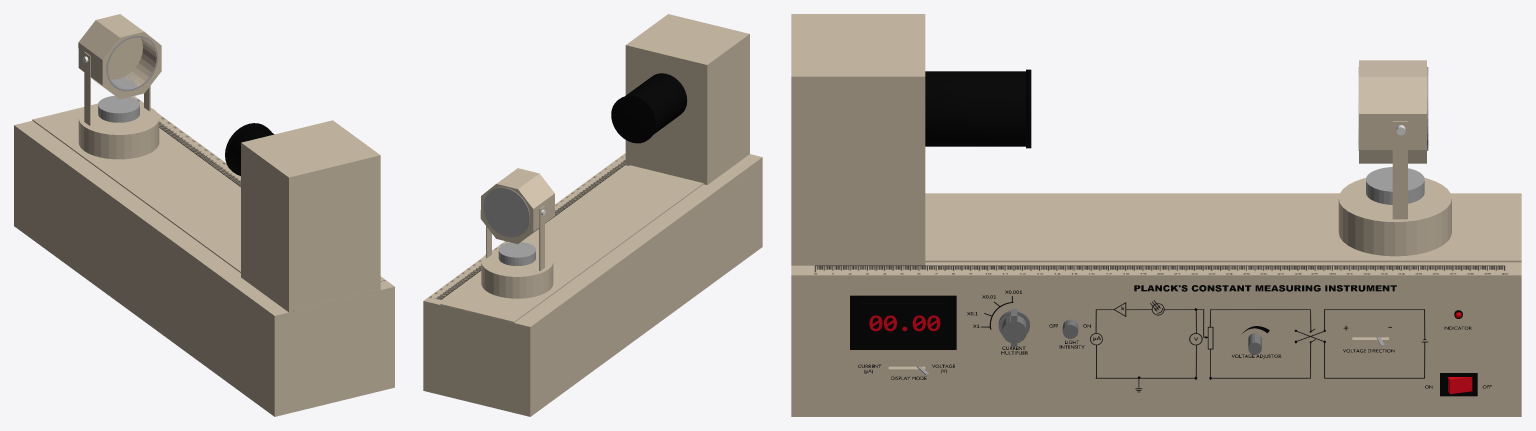
3 renders of one model, left to right at view 1: azimuth 30°, elevation 25°; view 2: azimuth 150°, elevation 25°; view 3: azimuth 270°, elevation 25°, orthographic. The views are drawn at different scales.
Visible parts, largest first — view 1: Cube, Cube.001, Cube.014, Circle.020, Cylinder, Cylinder.003, Cylinder.007, Cylinder.005, scale_2x, Cube.002; view 2: Cube, Cube.001, Cube.014, Cylinder, Circle.020, Cylinder.007, Cylinder.005, Cylinder.008, Cylinder.003, scale_2x, Cube.002; view 3: Cube, Cube.001, Cube.014, Cylinder.007, Cylinder, Circle.020, Plane.001, scale_2x, Voltage_adjustor_director_2x, Cube.007, Cylinder.003, Text.016 (+1 smaller).
Part boxes in pixels (x1,y1,x2,y2): Cube: (14, 96, 394, 416); Cube.001: (241, 120, 380, 312); Cube.014: (32, 105, 375, 312); Circle.020: (78, 14, 161, 99); Cylinder: (78, 103, 159, 159); Cylinder.003: (98, 96, 139, 122); Cylinder.007: (228, 125, 274, 175); Cylinder.005: (106, 35, 158, 91); scale_2x: (138, 100, 385, 281); Cube.002: (84, 52, 90, 125); Cube: (423, 153, 762, 416); Cube.001: (625, 14, 749, 184); Cube.014: (440, 165, 703, 322); Cylinder: (481, 249, 553, 298); Circle.020: (480, 168, 554, 243); Cylinder.007: (625, 73, 687, 134); Cylinder.005: (483, 187, 529, 237); Cylinder.008: (611, 95, 655, 143); Cylinder.003: (498, 242, 535, 265); scale_2x: (429, 157, 625, 299); Cube.002: (539, 205, 544, 270); Cube: (791, 193, 1521, 416); Cube.001: (791, 14, 925, 265); Cube.014: (925, 204, 1521, 262); Cylinder.007: (925, 71, 1025, 146); Cylinder: (1338, 178, 1451, 256); Circle.020: (1359, 60, 1426, 163); Plane.001: (850, 295, 956, 349); scale_2x: (814, 265, 1507, 274); Voltage_adjustor_director_2x: (1090, 300, 1427, 392); Cube.007: (1392, 121, 1407, 219); Cylinder.003: (1366, 167, 1424, 204); Text.016: (1134, 285, 1396, 291).
Bounding box in the file's own units: 3.24 × 5.45 × 10.91.
Materials: 10 (4 with a texture image).
